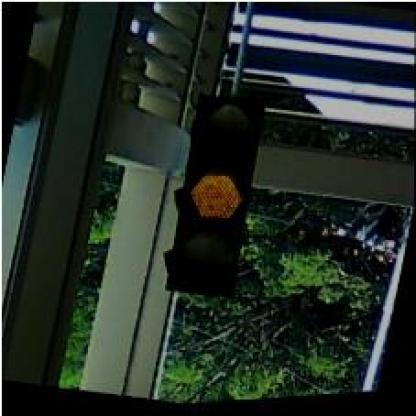yellow: (158, 92, 271, 304)
